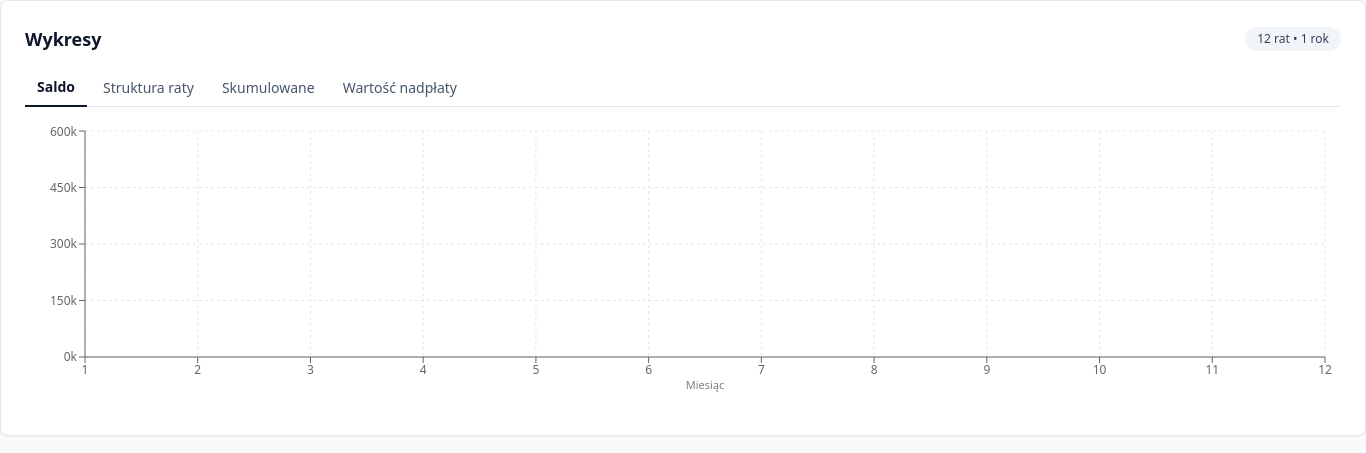
Charts › switches to cumulative chart on tab click
Click the tab "Skumulowane".
click(268, 88)  # box [210,69,327,106]
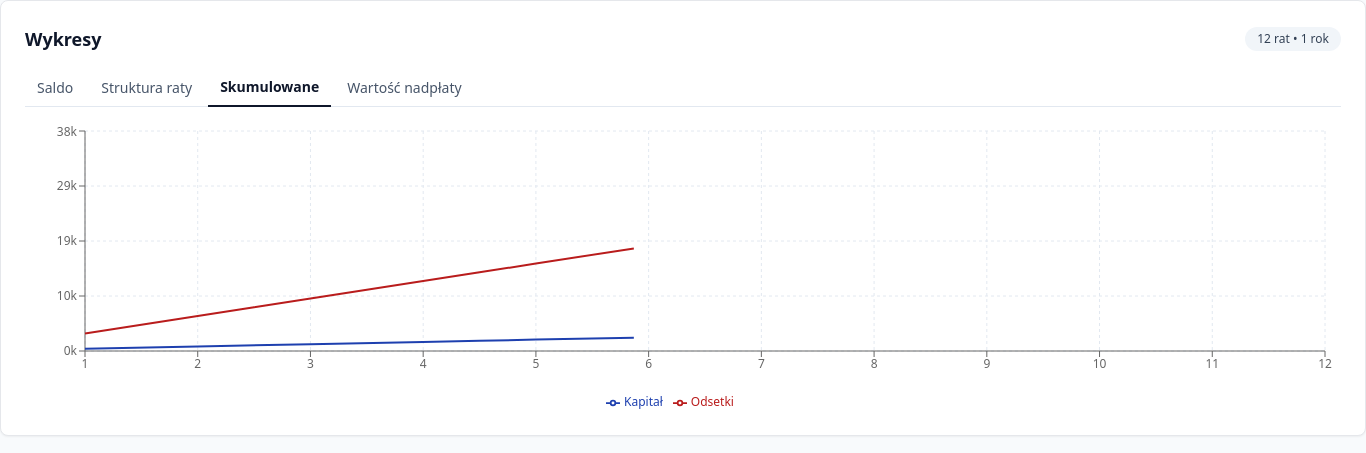
Result: the element with test id "cumulative-chart" is shown
